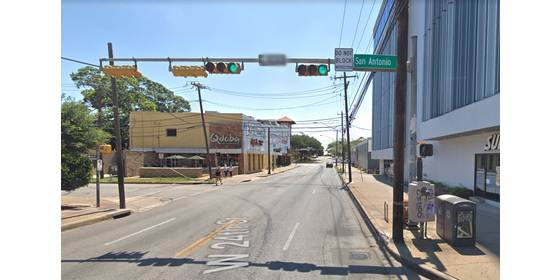do not block intersection sign: (333, 48, 353, 72)
one way arrow sign: (259, 52, 286, 66)
street name sign: (354, 55, 399, 70)
